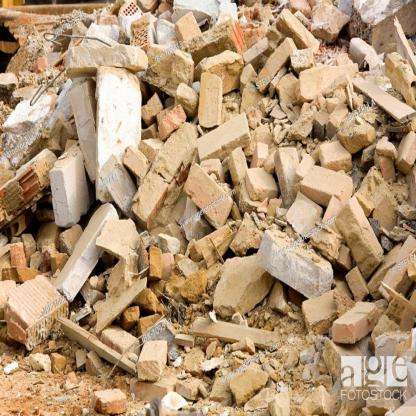brick: (0, 1, 416, 413)
